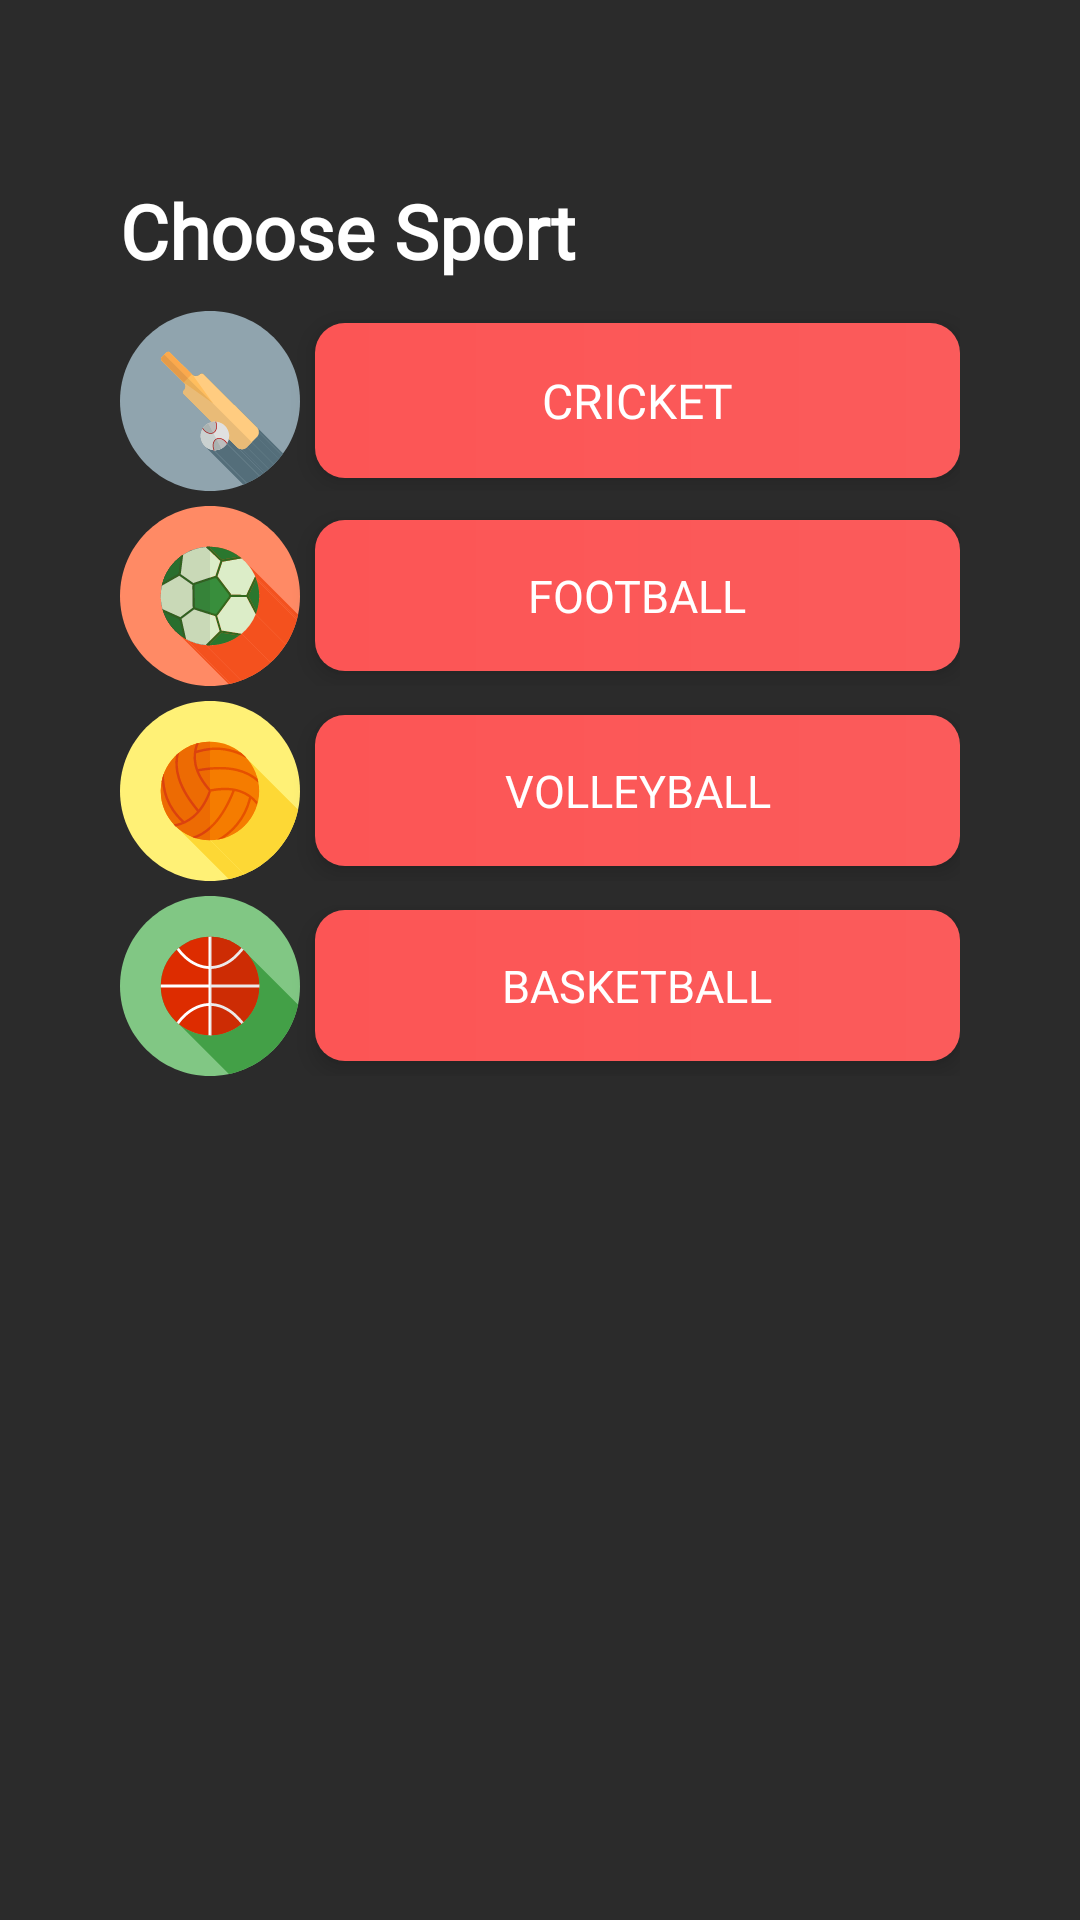

Icon bounding boxes for this 1080×1920 phone screenshot, format (x1, y1, x2, y2):
circket: (120, 311, 300, 491)
